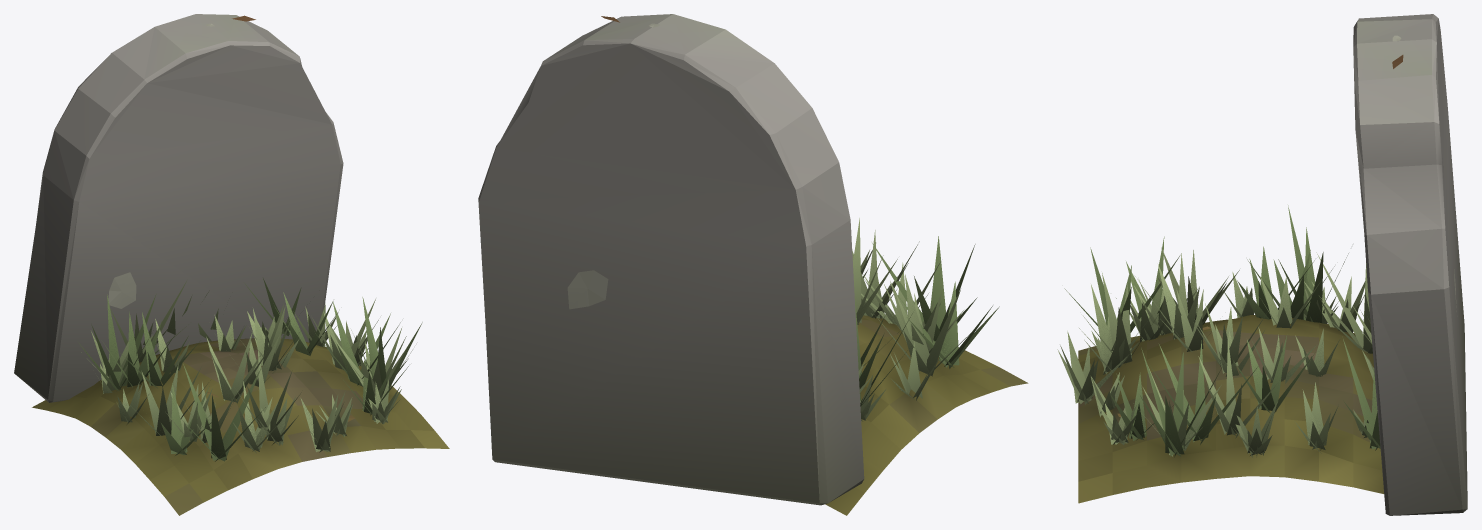
File: headstone_b.glb
3 views of the same model, side by side, from view 1: azimuth 30°, elevation 25°; view 2: azimuth 150°, elevation 25°; view 3: azimuth 270°, elevation 25° (orthographic). The views are drawn at different scales.
Visible parts, largest first — view 1: headstone_b; view 2: headstone_b; view 3: headstone_b.
Part boxes in pixels (left/top/right/bottom): headstone_b: left=14, top=14, right=449, bottom=515; headstone_b: left=478, top=14, right=1028, bottom=515; headstone_b: left=1057, top=14, right=1467, bottom=515.
Bounding box in the file's own units: 1.26 × 1.46 × 1.29.
